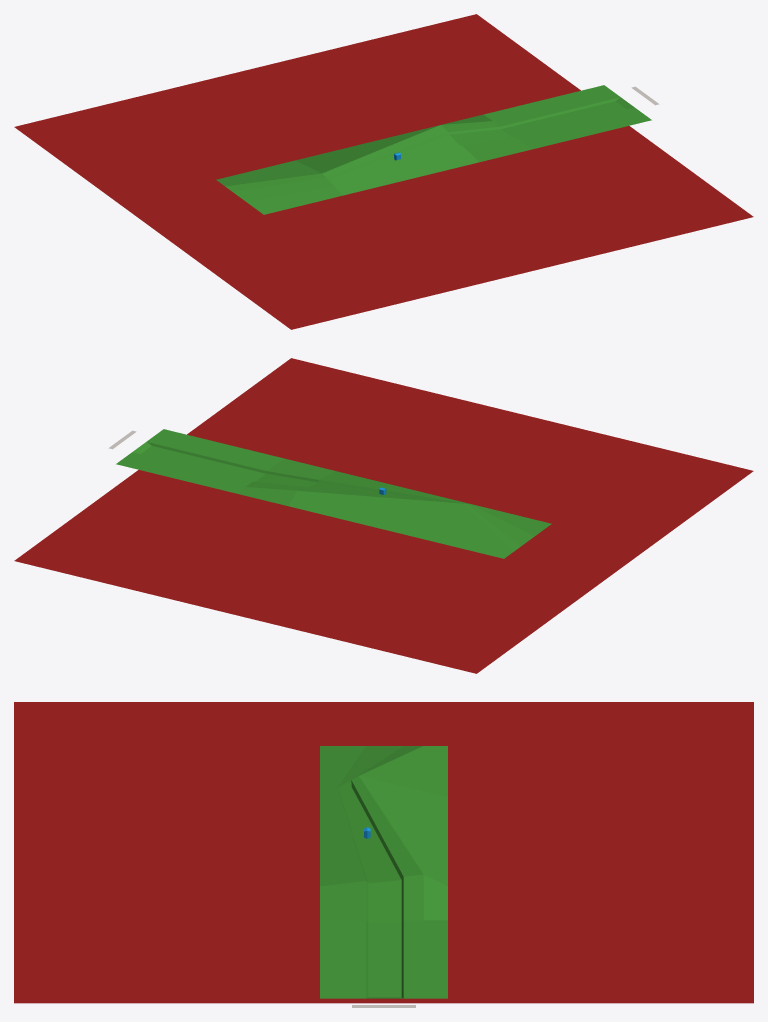
File: Test_Map_1.fbx
3 renders of one model, top to bottom at view 1: azimuth 30°, elevation 25°; view 2: azimuth 150°, elevation 25°; view 3: azimuth 270°, elevation 25°, orthographic. The views are drawn at different scales.
Visible parts, largest first — view 1: Plane.002, Plane.001; view 2: Plane.002, Plane.001; view 3: Plane.002, Plane.001.
Boxes of the visible parts, x1,y1,x2,y2 form: Plane.002: [14, 14, 753, 329]; Plane.001: [216, 85, 651, 214]; Plane.002: [14, 358, 753, 673]; Plane.001: [116, 429, 551, 558]; Plane.002: [14, 702, 753, 1003]; Plane.001: [320, 746, 447, 998].
Bounding box in the file's own units: 22699 × 997 × 22025.
4 materials, 3 textured.
